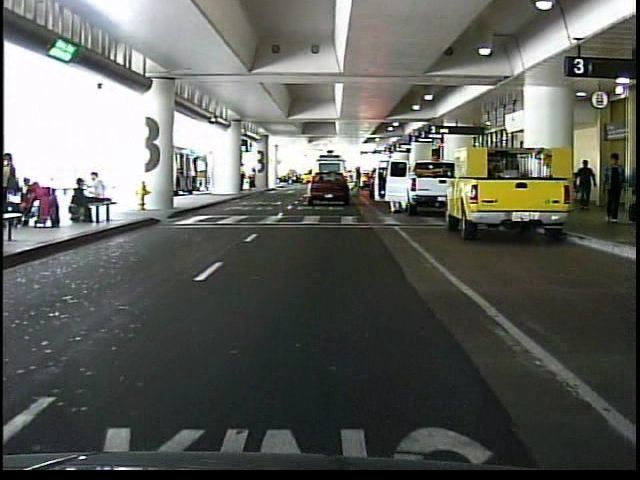person: (599, 150, 623, 224), (571, 156, 598, 213), (248, 167, 260, 192)
